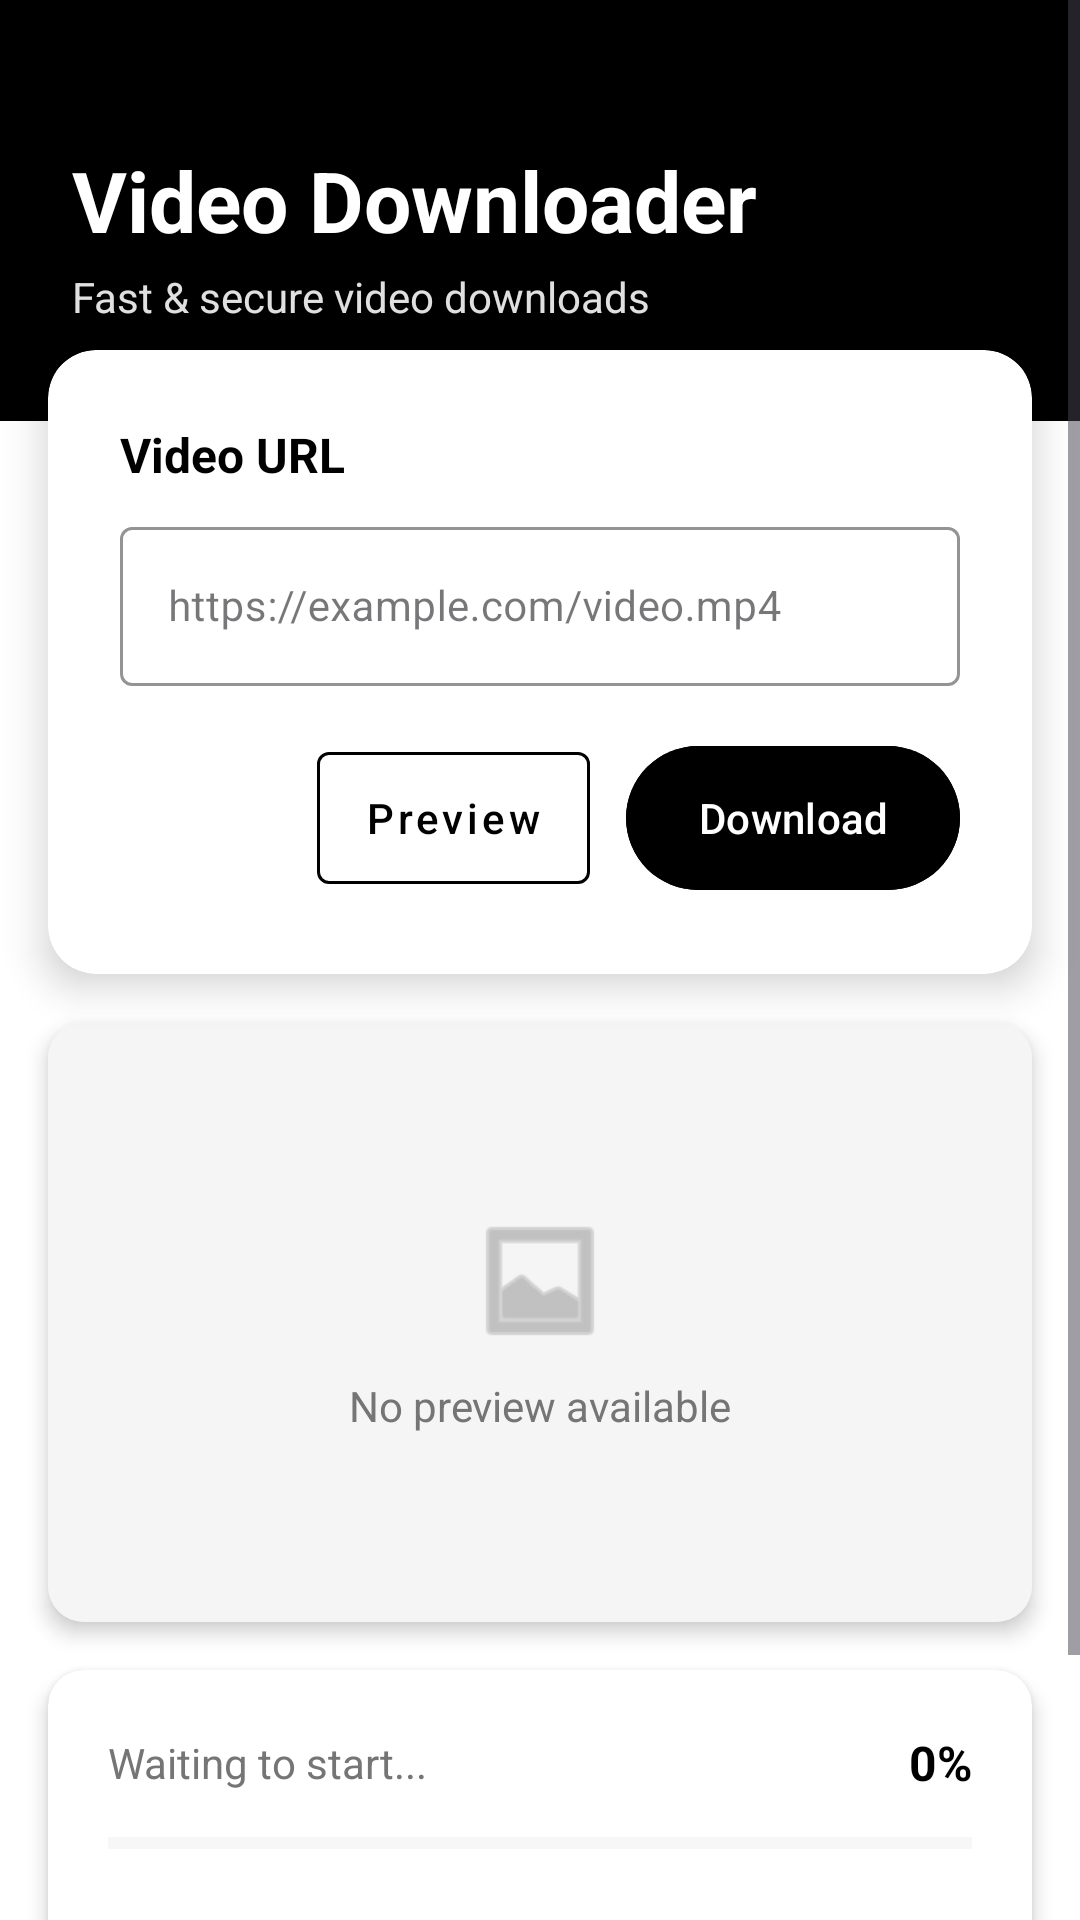

Point at icon controls on the screen. Image size 1080x1920, points as (x=x, y=y).
gallery: (x=540, y=1281)
